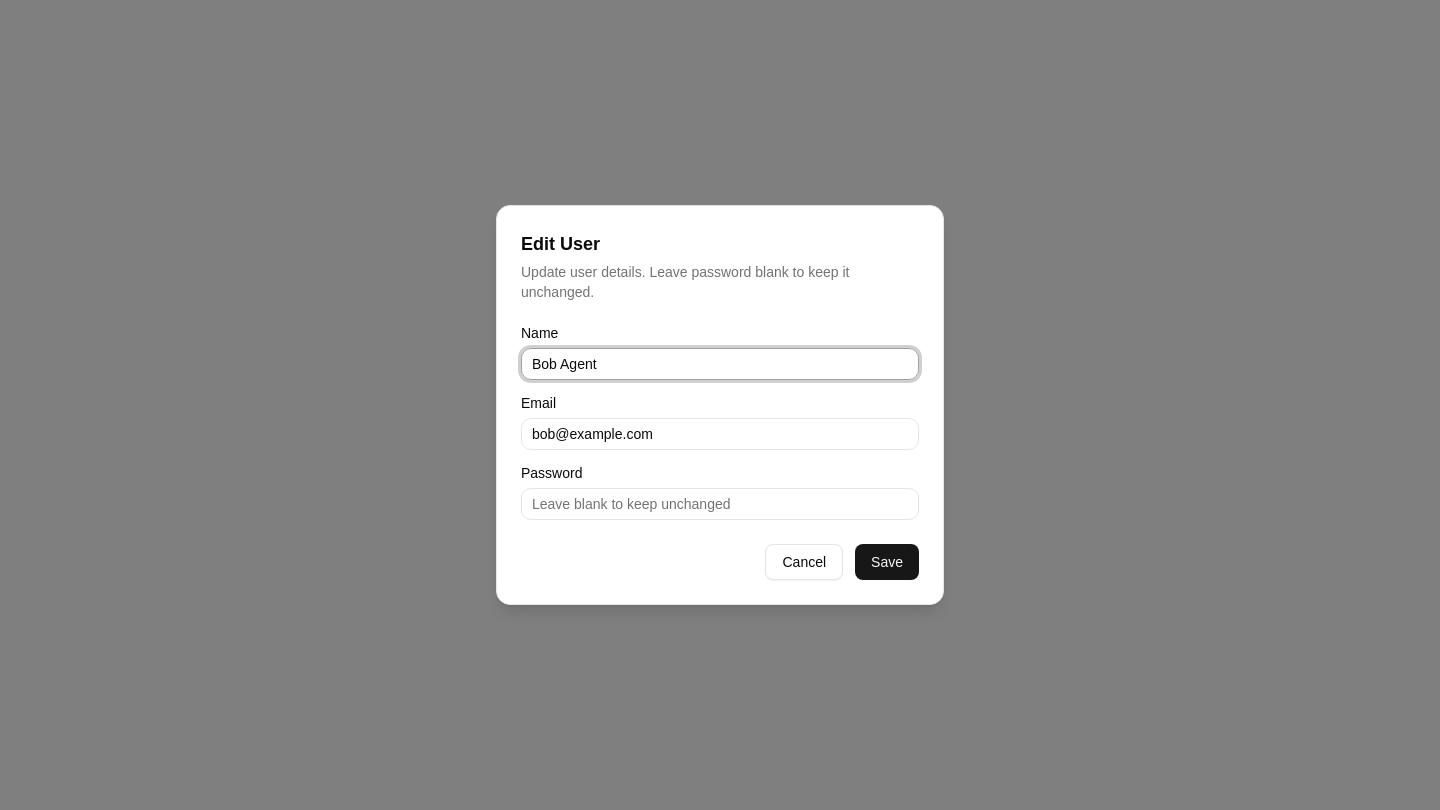
Test case: UserFormDialog — edit mode › validation errors › shows error when email is cleared and submitted
This screenshot has width=1440, height=810.
Step 1. Clear the field labelled "Email" → (720, 434), box [521,418,919,450]
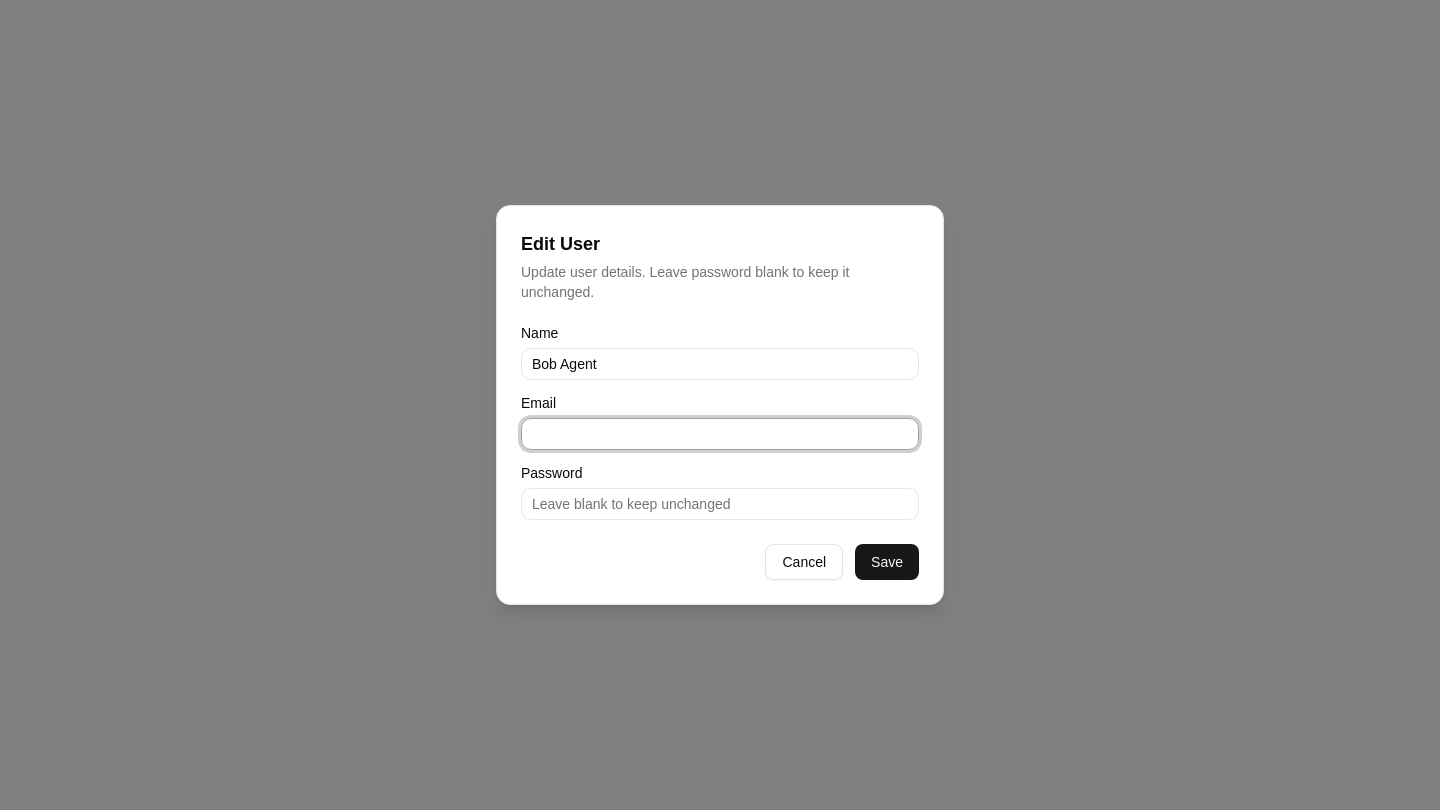
Step 2. Click the button "Save" → (887, 562), box [855,544,919,580]
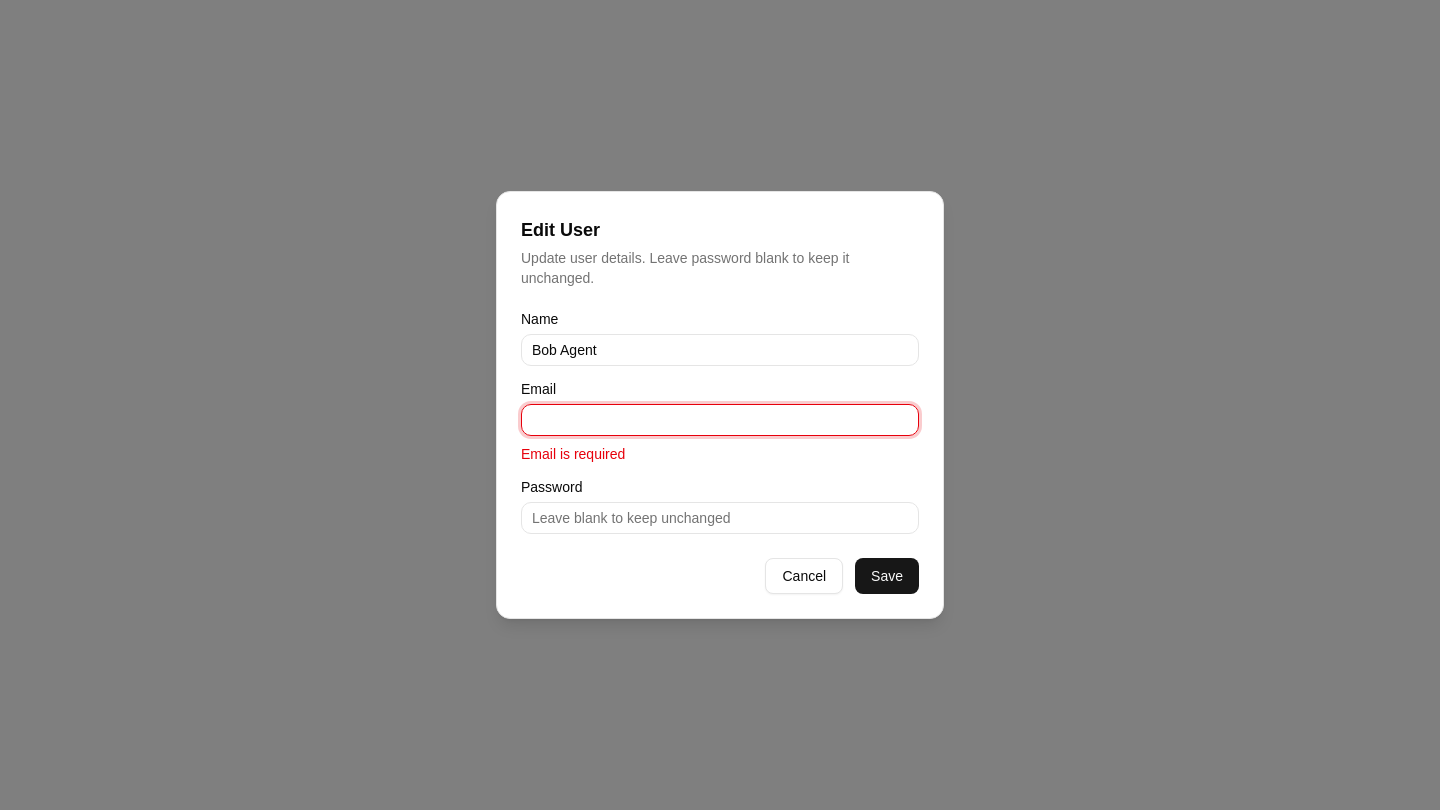
Expected: the text "Email is required" is shown, [521,446,625,462]
